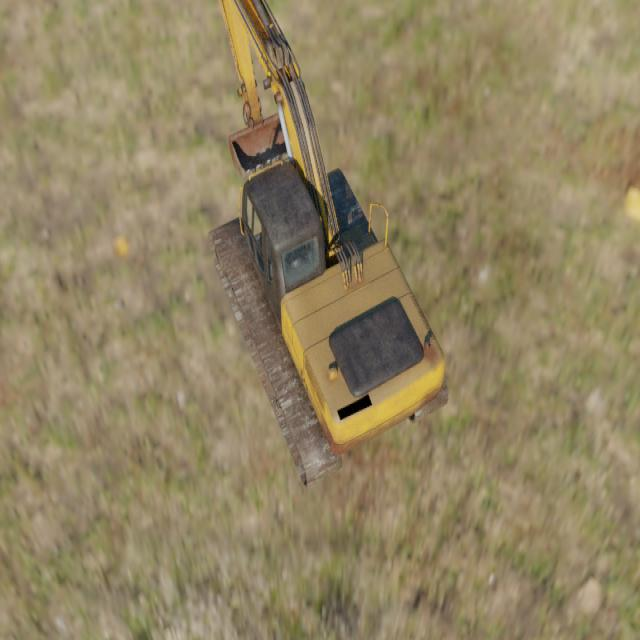excavator: (207, 0, 448, 491)
